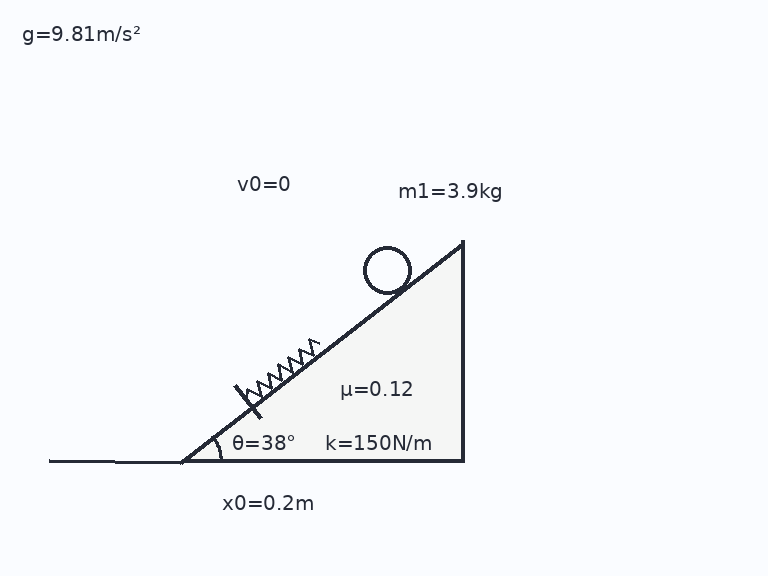ball: (361, 244, 413, 296)
ramp: (179, 239, 464, 463)
spring: (244, 338, 321, 401)
